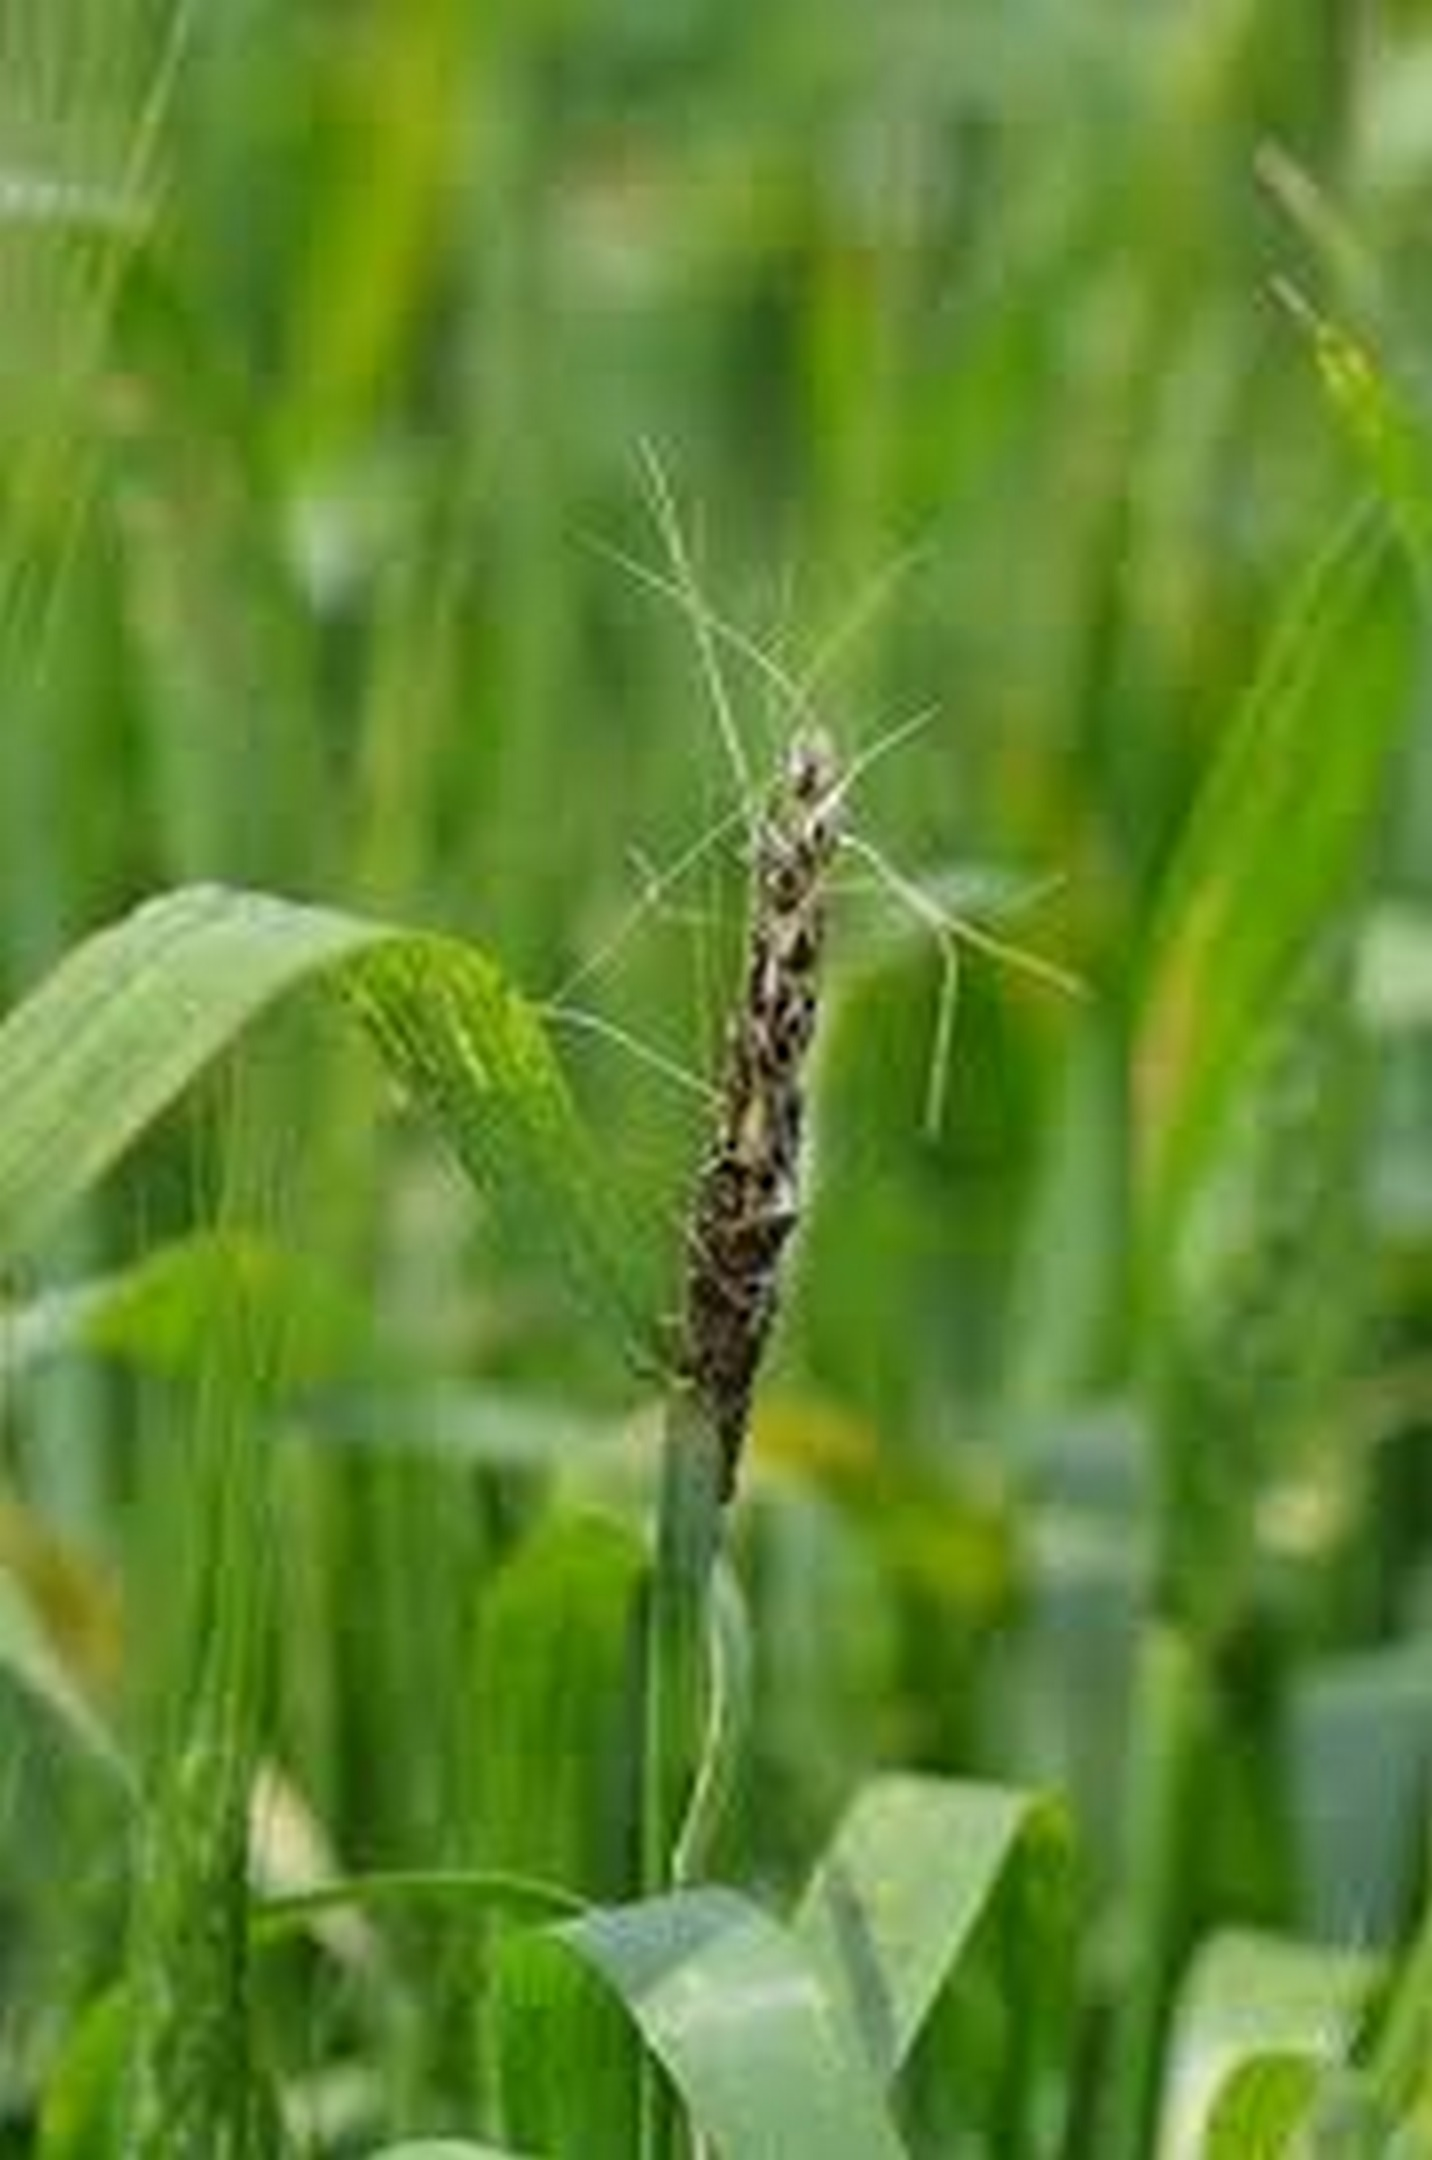Wheat Loose Smut: (646, 701, 892, 1447)
